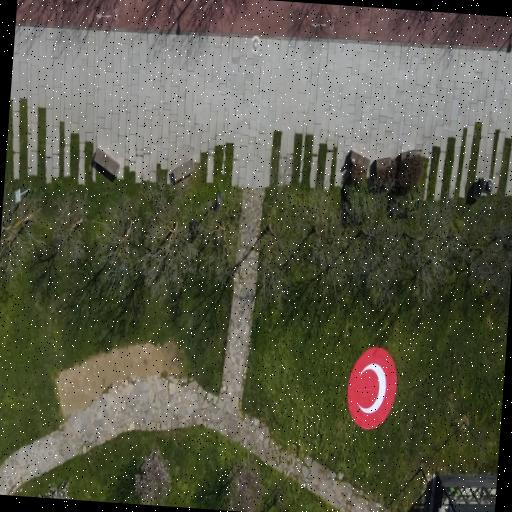UAI: (347, 348, 397, 430)
